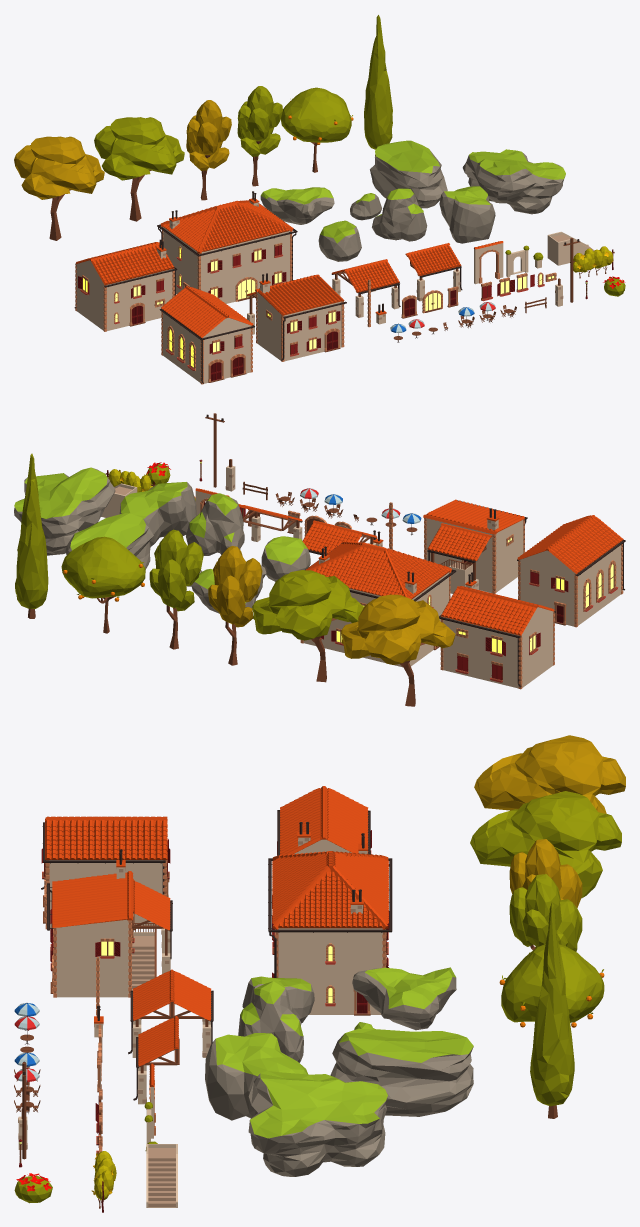
Rendered from pack.fbx.
3 views of the same model, one above another, from view 1: azimuth 30°, elevation 25°; view 2: azimuth 150°, elevation 25°; view 3: azimuth 270°, elevation 25° (orthographic). The views are drawn at different scales.
Parts seen in each view (by area): view 1: house 2, house 1, house 3, house 4, tree 1, tree 2, rock 7, rock 5, tree 5, tree 6, tree 4, tree 3 (+10 smaller); view 2: house 1, house 3, house 4, house 2, tree 1, tree 2, rock 7, tree 5, tree 6, tree 4, tree 3, rock 6 (+9 smaller); view 3: house 2, house 4, rock 7, rock 5, house 3, tree 2, tree 1, tree 6, house 1, rock 6, tree 5, rock 1 (+9 smaller).
Part boxes in pixels (left/top/right/bottom): house 2: left=157, top=191, right=297, bottom=303; house 1: left=74, top=239, right=177, bottom=331; house 3: left=159, top=286, right=254, bottom=384; house 4: left=246, top=273, right=346, bottom=361; tree 1: left=14, top=136, right=104, bottom=240; tree 2: left=94, top=117, right=184, bottom=221; rock 7: left=462, top=149, right=565, bottom=214; rock 5: left=370, top=140, right=447, bottom=208; tree 5: left=280, top=87, right=353, bottom=172; tree 6: left=364, top=15, right=392, bottom=156; tree 4: left=237, top=86, right=282, bottom=186; tree 3: left=186, top=100, right=231, bottom=200; house 1: left=439, top=572, right=555, bottom=689; house 3: left=517, top=515, right=625, bottom=627; house 4: left=423, top=499, right=527, bottom=593; house 2: left=300, top=541, right=456, bottom=667; tree 1: left=341, top=594, right=455, bottom=706; tree 2: left=252, top=570, right=363, bottom=682; rock 7: left=14, top=467, right=115, bottom=555; tree 5: left=61, top=536, right=145, bottom=633; tree 6: left=15, top=453, right=48, bottom=618; tree 4: left=149, top=529, right=203, bottom=649; tree 3: left=208, top=546, right=262, bottom=665; rock 6: left=119, top=482, right=196, bottom=546; house 2: left=268, top=833, right=392, bottom=1015; house 4: left=47, top=849, right=172, bottom=997; rock 7: left=247, top=1071, right=387, bottom=1176; rock 5: left=330, top=1028, right=473, bottom=1116; house 3: left=41, top=816, right=170, bottom=930; tree 2: left=470, top=791, right=621, bottom=898; tree 1: left=474, top=735, right=625, bottom=813; tree 6: left=530, top=903, right=574, bottom=1118; house 1: left=277, top=786, right=371, bottom=855; rock 6: left=205, top=1033, right=307, bottom=1120; tree 5: left=499, top=944, right=604, bottom=1027; rock 1: left=352, top=967, right=456, bottom=1030.
Size of the model in its own units: 9688 by 3403 by 7442.
